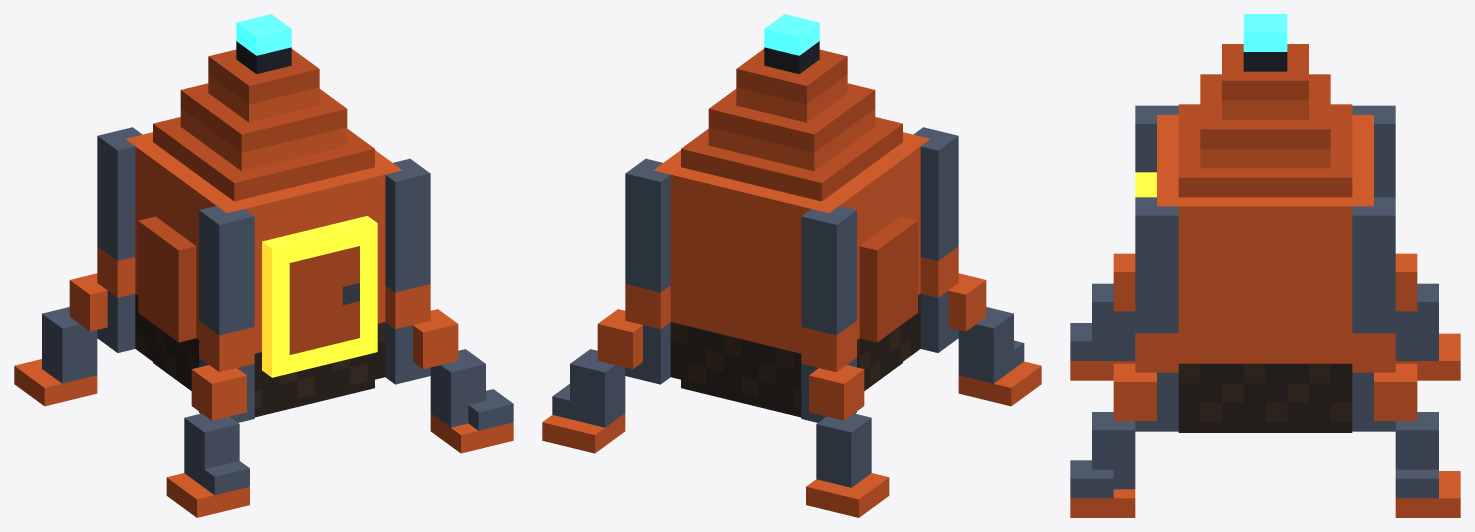
File: drop_pod.glb
3 views of the same model, side by side, from view 1: azimuth 30°, elevation 25°; view 2: azimuth 150°, elevation 25°; view 3: azimuth 270°, elevation 25° (orthographic). The views are drawn at different scales.
Parts seen in each view (by area): view 1: hull, emit_hatch, emit_beacon; view 2: hull, emit_beacon; view 3: hull, emit_beacon, emit_hatch.
Boxes of the visible parts, x1,y1,x2,y2 form: hull: (14, 41, 513, 517); emit_hatch: (262, 216, 377, 377); emit_beacon: (236, 14, 291, 55); hull: (542, 41, 1041, 517); emit_beacon: (764, 14, 819, 55); hull: (1070, 44, 1460, 517); emit_beacon: (1243, 14, 1287, 51); emit_hatch: (1135, 172, 1156, 197).
Bounding box in the file's own units: 18 × 21 × 18.
